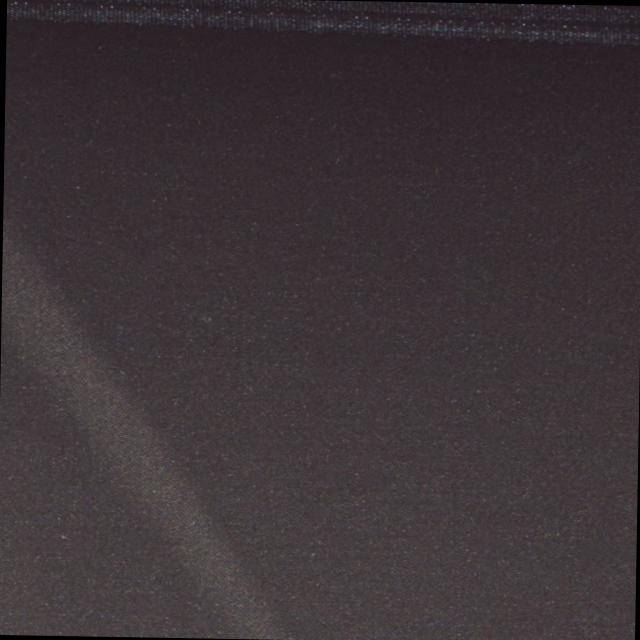Warp_Weft: (4, 0, 640, 50)
